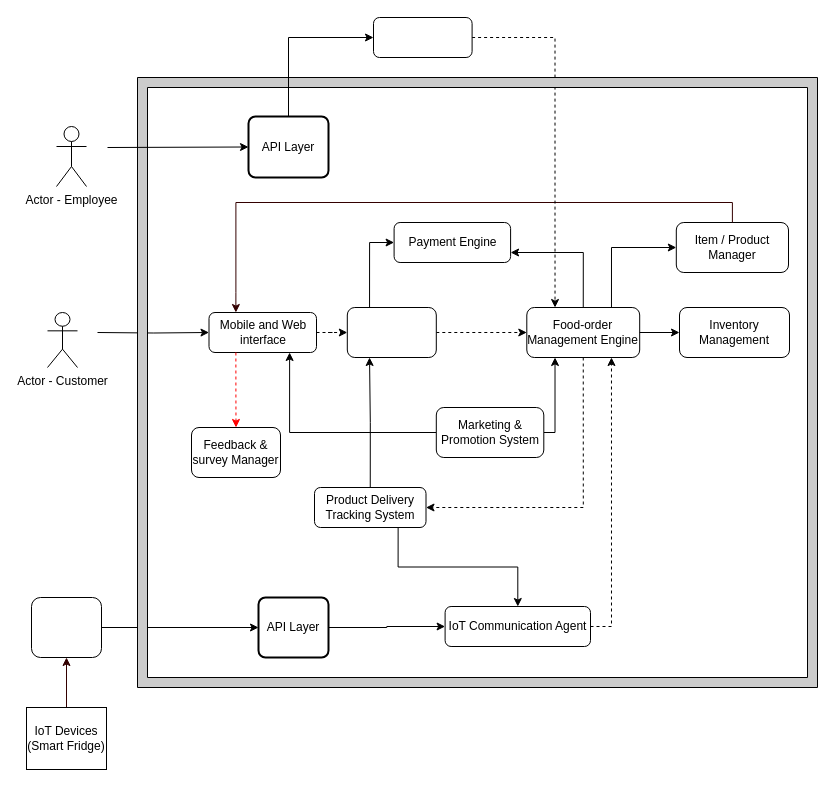
Image size: 835x787. Some labels were removed from this diagram. The shapes that lost their labels are listed below. From the top down, each one's centre as x and y in pixels, then its label:
At point 422,37: "Store/Kiosk Sale".
At point 391,332: "Identity Management".
At point 66,627: "IoT Cloud Management".
